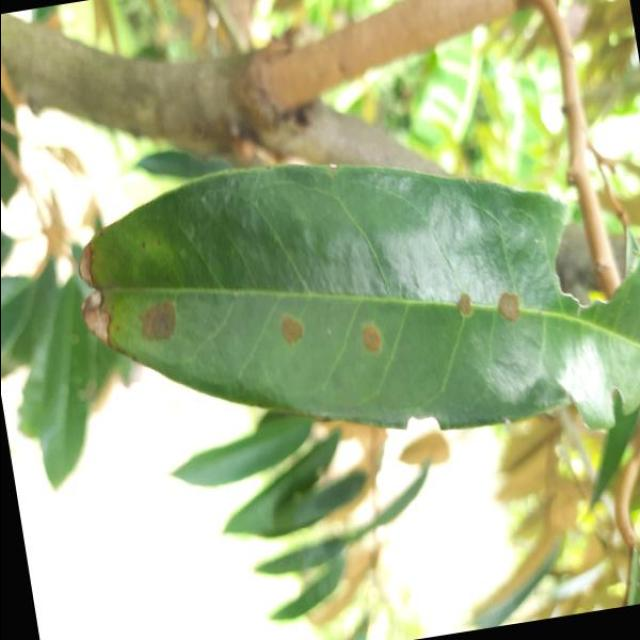Algal Leaf Spot: (41, 88, 640, 520)
